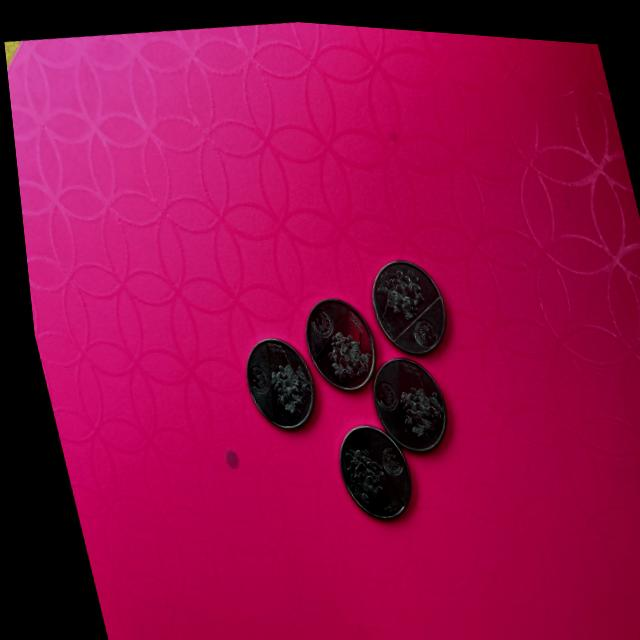1_New_Back: (304, 303, 370, 385), (375, 363, 441, 438), (363, 261, 431, 330), (253, 347, 312, 421), (325, 434, 380, 504)
